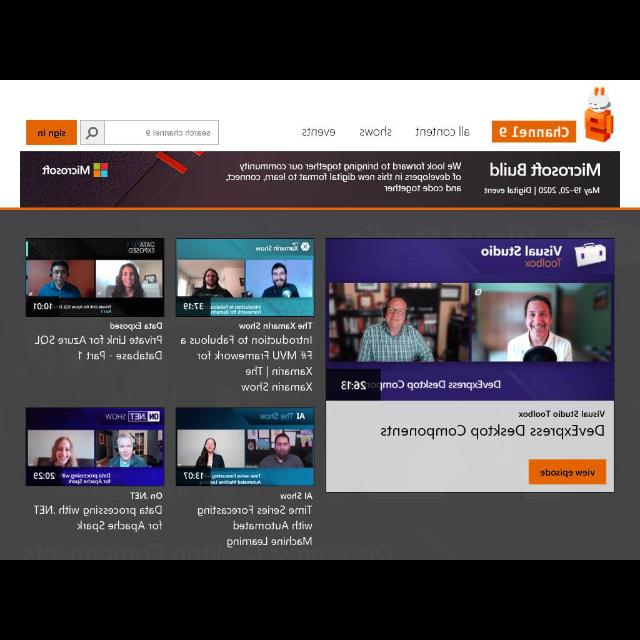icon: (85, 126, 98, 140)
iframe: (20, 151, 620, 207)
image: (326, 238, 614, 492), (176, 408, 314, 487), (26, 408, 164, 487), (176, 239, 314, 317), (26, 238, 164, 316), (492, 87, 614, 143)
input: (80, 121, 218, 145)
text: (182, 322, 312, 392), (198, 492, 312, 548), (34, 492, 162, 532), (34, 322, 162, 360), (415, 126, 469, 136), (146, 130, 210, 136), (361, 126, 392, 136), (302, 128, 336, 136), (38, 130, 66, 138)
textbutton: (27, 120, 77, 144)
toolbar: (1, 86, 639, 148)
